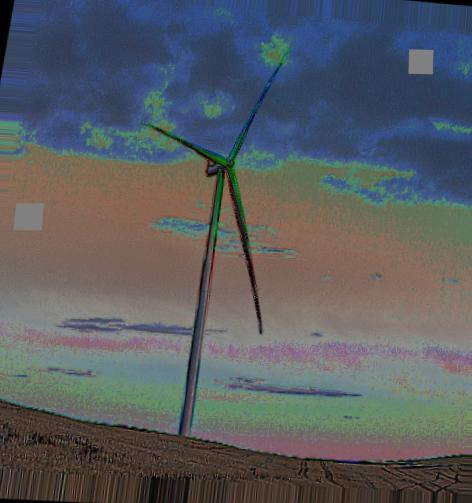wind turbine: (145, 64, 282, 435)
